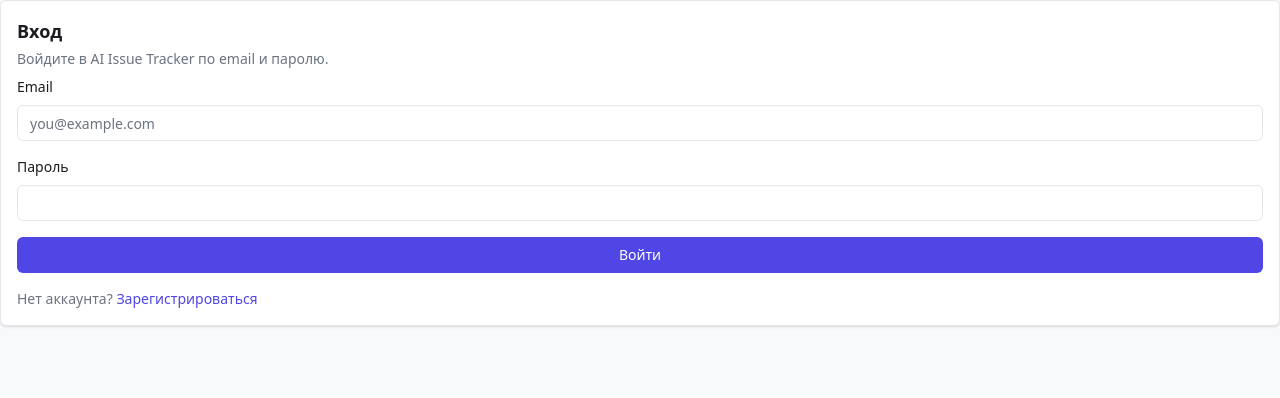
Test case: LoginForm › показывает общую ошибку формы при ответе 401
This screenshot has width=1280, height=398.
Type "user@example.com" into the field labelled "Email" at (640, 123), box [17,105,1263,141]
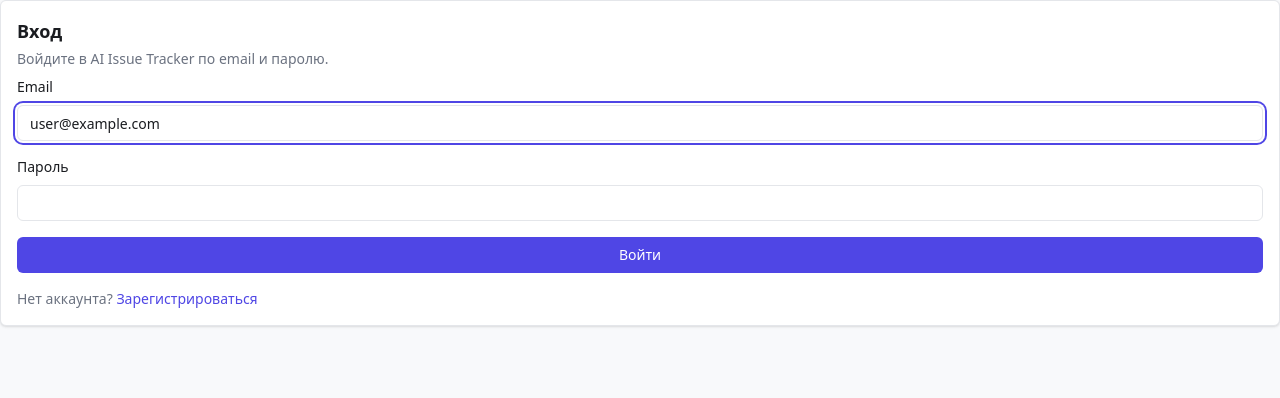
Type "wrongpass" into the password field labelled "Пароль" at (640, 203), box [17,185,1263,221]
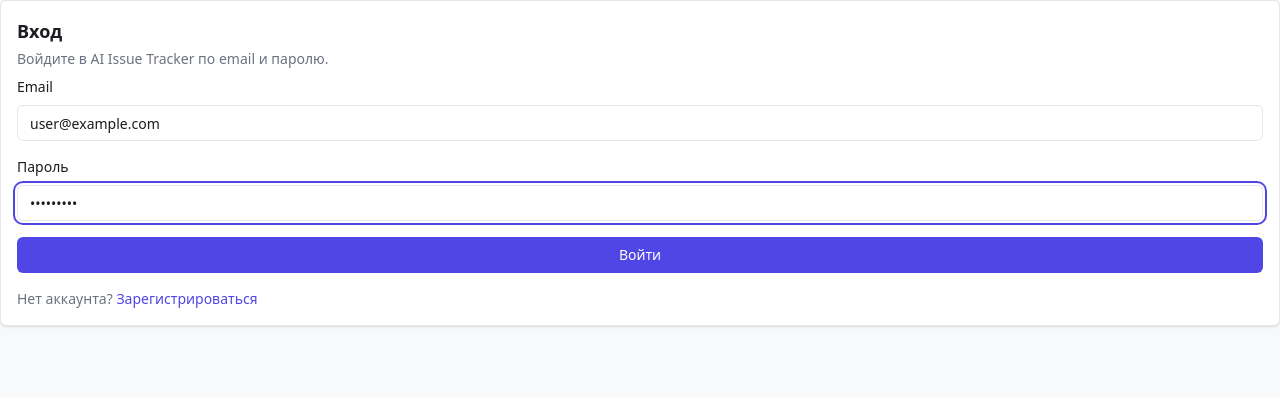
Click the button "Войти" at (640, 255), box [17,237,1263,273]
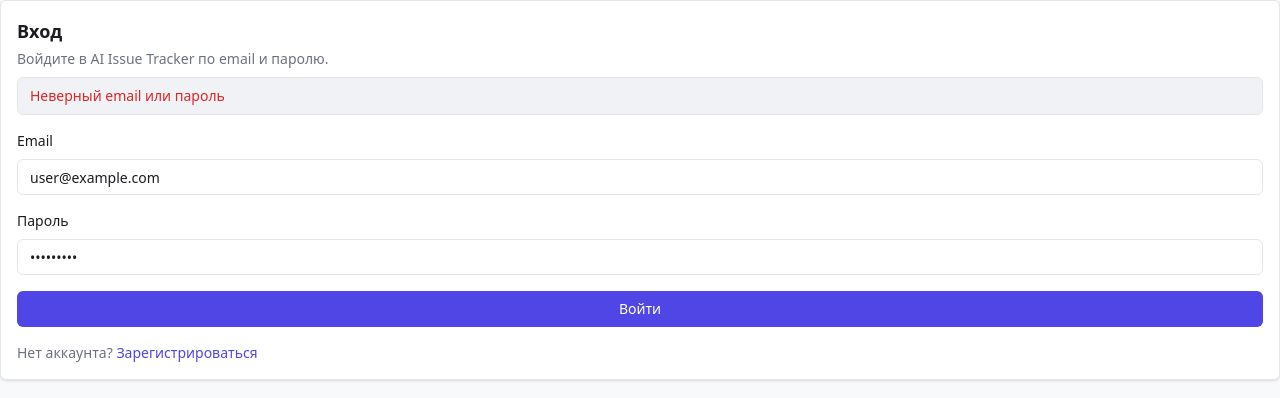
Check: the text "Неверный email или пароль" is shown, box [17,77,1263,115]
